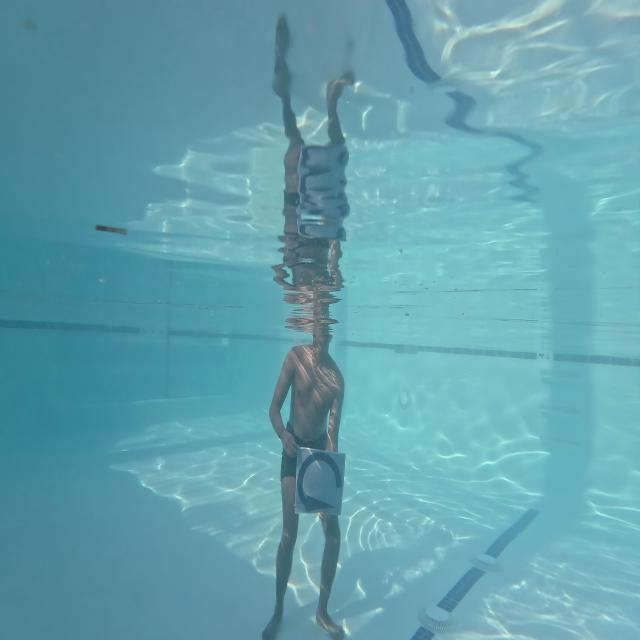blue_side: (292, 439, 346, 517)
